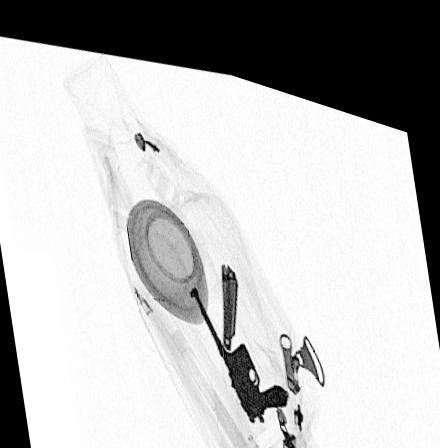Gun: (188, 273, 288, 409)
